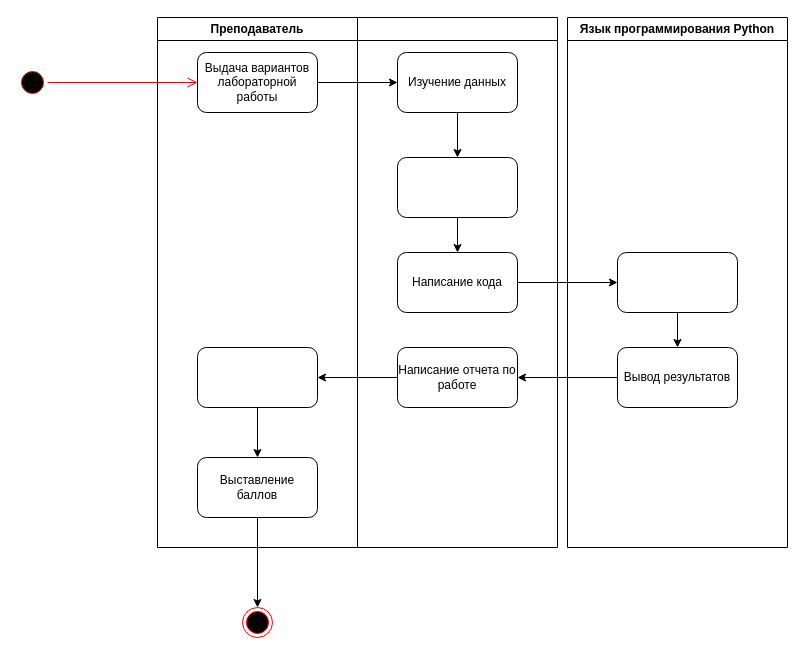
This 805x655 diagram has some shape labels left out. The shapes that lost their labels are listed below. From the top down, each one's box as (x1, y1, x2, y2) in pixels, then its label:
(396, 156, 518, 218): Изучение теории
(356, 16, 558, 548): Студент
(616, 252, 738, 312): Выполение кода
(196, 346, 318, 408): Проверка знаний и правильности выполнения работы
